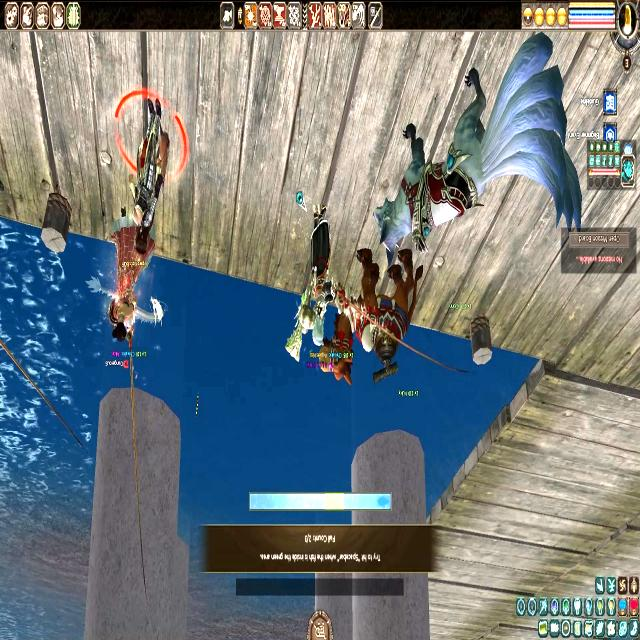fishes: (377, 496, 389, 507)
